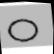no answer: (2, 14, 41, 48)
